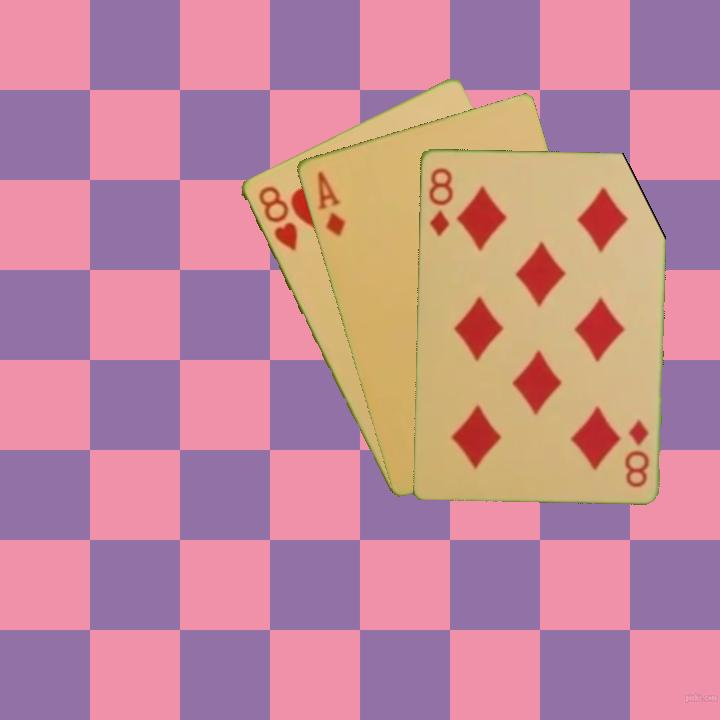8d: (621, 415, 652, 490), (425, 164, 456, 238)
8h: (254, 182, 301, 253)
Ad: (313, 167, 348, 240)
